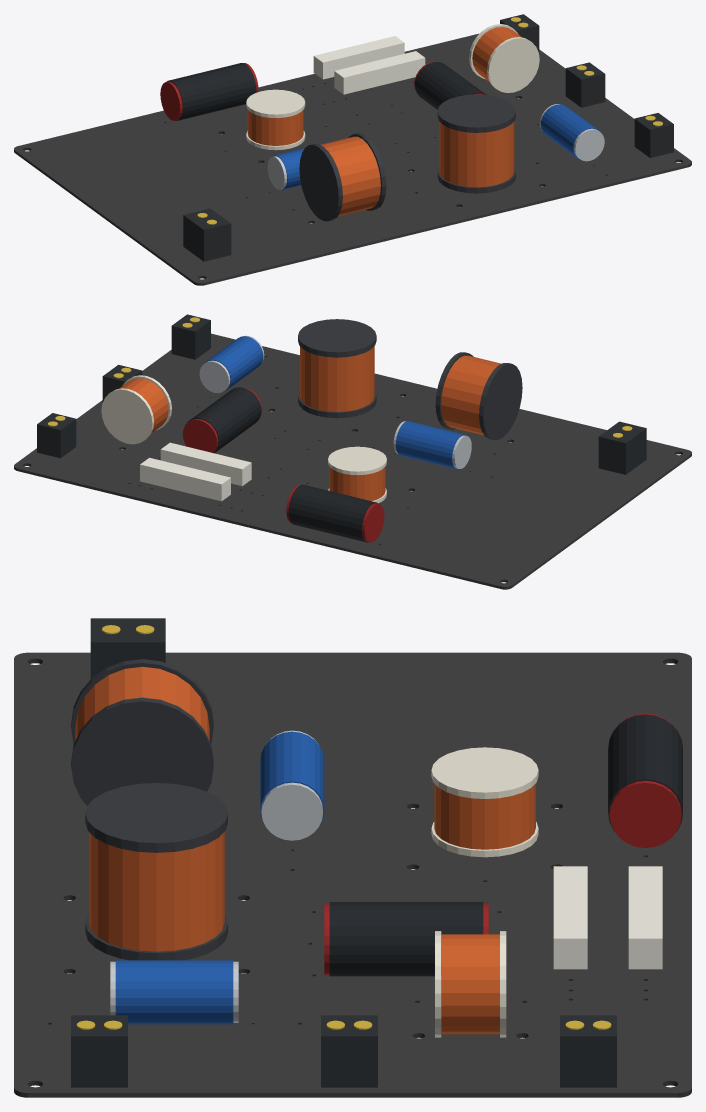
File: relica3.glb
3 views of the same model, one above another, from view 1: azimuth 30°, elevation 25°; view 2: azimuth 150°, elevation 25°; view 3: azimuth 270°, elevation 25° (orthographic). The views are drawn at different scales.
Parts seen in each view (by area): view 1: relica_pcb, relica_cap_body, relica_coil_ferrite_wire, relica_coil_ferrite_bobbin, relica_tb_body, relica_coil_air_bobbin, relica_resistor, relica_coil_air_wire, relica_cap_leads, relica_cap_end; view 2: relica_pcb, relica_cap_body, relica_coil_ferrite_wire, relica_coil_ferrite_bobbin, relica_tb_body, relica_resistor, relica_coil_air_bobbin, relica_coil_air_wire, relica_cap_end, relica_cap_leads; view 3: relica_pcb, relica_cap_body, relica_coil_ferrite_bobbin, relica_coil_ferrite_wire, relica_tb_body, relica_coil_air_wire, relica_resistor, relica_coil_air_bobbin, relica_cap_end, relica_cap_leads, relica_pads, relica_tb_screws.
Part boxes in pixels (x1=…): relica_pcb: x1=14, y1=33, x2=691, y2=285; relica_cap_body: x1=166, y1=62, x2=601, y2=189; relica_coil_ferrite_wire: x1=320, y1=121, x2=514, y2=216; relica_coil_ferrite_bobbin: x1=299, y1=94, x2=515, y2=221; relica_tb_body: x1=183, y1=14, x2=673, y2=261; relica_coil_air_bobbin: x1=246, y1=24, x2=539, y2=150; relica_resistor: x1=313, y1=36, x2=425, y2=94; relica_coil_air_wire: x1=247, y1=27, x2=522, y2=145; relica_cap_leads: x1=267, y1=104, x2=604, y2=189; relica_cap_end: x1=160, y1=61, x2=483, y2=120; relica_pcb: x1=14, y1=333, x2=691, y2=588; relica_cap_body: x1=185, y1=336, x2=466, y2=542; relica_coil_ferrite_wire: x1=300, y1=346, x2=501, y2=435; relica_coil_ferrite_bobbin: x1=298, y1=319, x2=522, y2=439; relica_tb_body: x1=37, y1=314, x2=646, y2=474; relica_resistor: x1=140, y1=442, x2=251, y2=501; relica_coil_air_bobbin: x1=101, y1=375, x2=386, y2=503; relica_coil_air_wire: x1=119, y1=378, x2=385, y2=501; relica_cap_end: x1=182, y1=387, x2=384, y2=542; relica_cap_leads: x1=199, y1=335, x2=471, y2=468; relica_pcb: x1=14, y1=652, x2=691, y2=1097; relica_cap_body: x1=115, y1=714, x2=682, y2=1024; relica_coil_ferrite_bobbin: x1=71, y1=659, x2=227, y2=960; relica_coil_ferrite_wire: x1=75, y1=666, x2=224, y2=951; relica_tb_body: x1=71, y1=618, x2=616, y2=1087; relica_coil_air_wire: x1=434, y1=783, x2=535, y2=1034; relica_resistor: x1=553, y1=866, x2=662, y2=969; relica_coil_air_bobbin: x1=431, y1=747, x2=538, y2=1037; relica_cap_end: x1=324, y1=713, x2=681, y2=974; relica_cap_leads: x1=110, y1=730, x2=322, y2=1022; relica_pads: x1=14, y1=658, x2=691, y2=1097; relica_tb_screws: x1=76, y1=625, x2=611, y2=1029.
Bounding box in the file's own units: 0.292 × 0.0424 × 0.19.
Materials: 11 (2 with a texture image).
